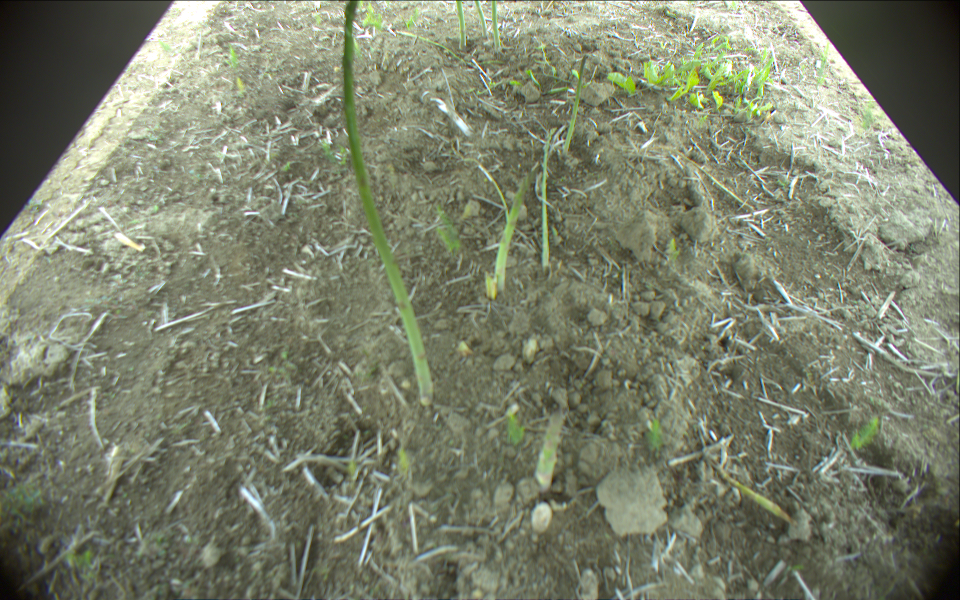aspa: (342, 1, 434, 405), (492, 177, 530, 293), (563, 52, 588, 150), (535, 408, 565, 489), (396, 30, 463, 63), (541, 130, 551, 269), (455, 1, 469, 50), (490, 1, 502, 51), (474, 1, 490, 37)
